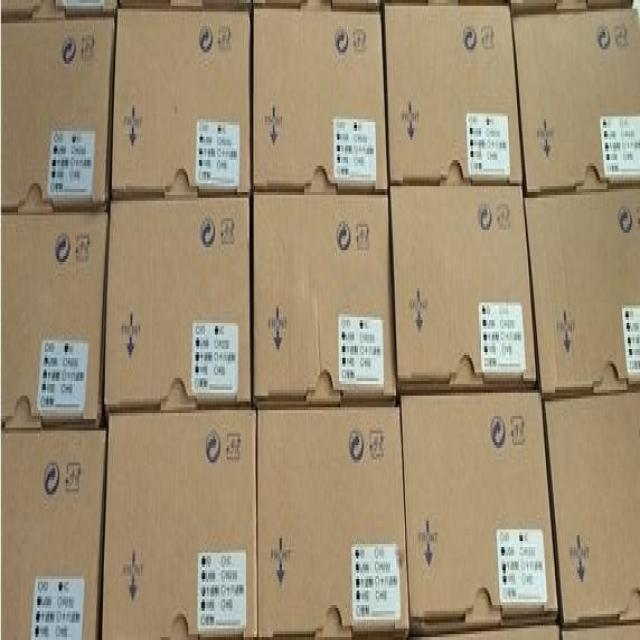box: (398, 393, 561, 637), (256, 399, 411, 637), (101, 410, 257, 640), (105, 195, 254, 410), (390, 186, 542, 396), (253, 192, 397, 404), (110, 9, 253, 204), (385, 3, 524, 186), (253, 9, 389, 192), (1, 207, 110, 431), (525, 175, 639, 387), (542, 387, 639, 631), (512, 12, 638, 192), (1, 428, 106, 634), (1, 15, 113, 204)
